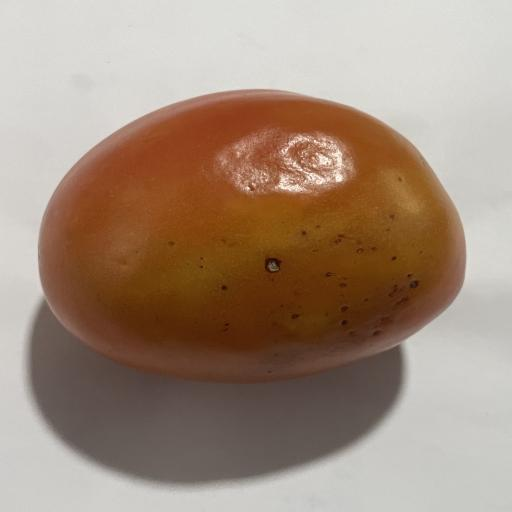unripe: (39, 90, 465, 382)
